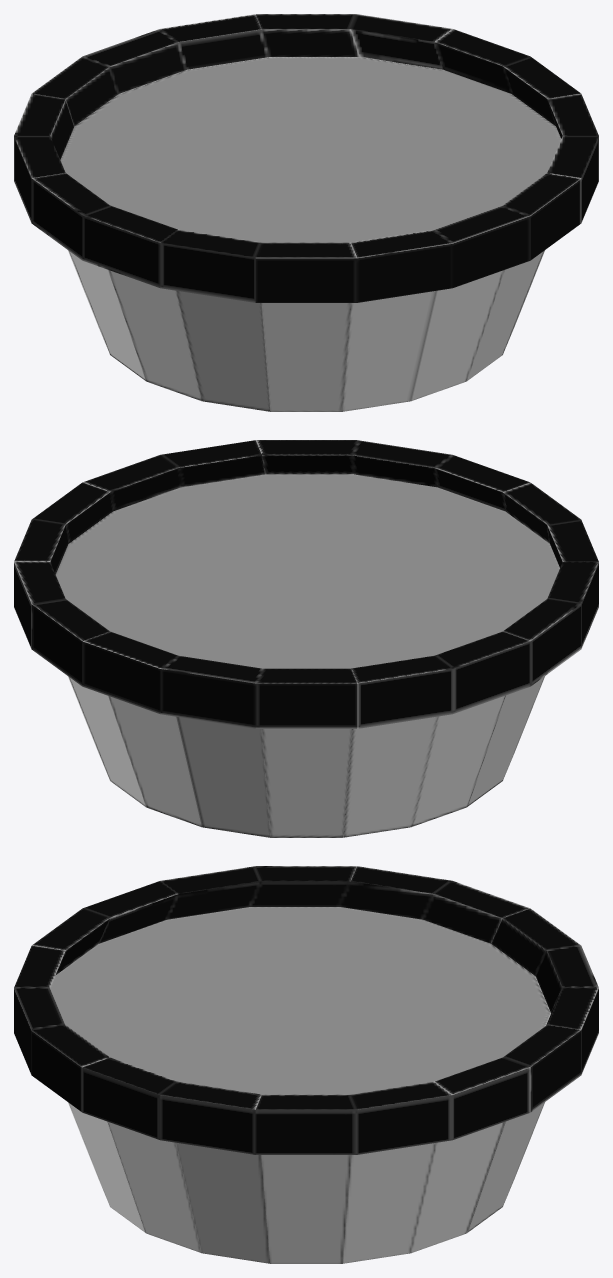
Rendered from Maceta.obj.
3 renders of one model, top to bottom at view 1: azimuth 30°, elevation 25°; view 2: azimuth 150°, elevation 25°; view 3: azimuth 270°, elevation 25°, orthographic.
Parts seen in each view (by area): view 1: Maceta_Cylinder; view 2: Maceta_Cylinder; view 3: Maceta_Cylinder.
Boxes of the visible parts, box(x1,y1,x2,y2) form: Maceta_Cylinder: box(14, 14, 598, 411); Maceta_Cylinder: box(14, 440, 598, 837); Maceta_Cylinder: box(14, 866, 598, 1263).
Bounding box in the file's own units: 2.16 × 0.7813 × 2.19.
